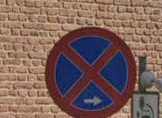oprirea_interzisa: (44, 27, 136, 117)
